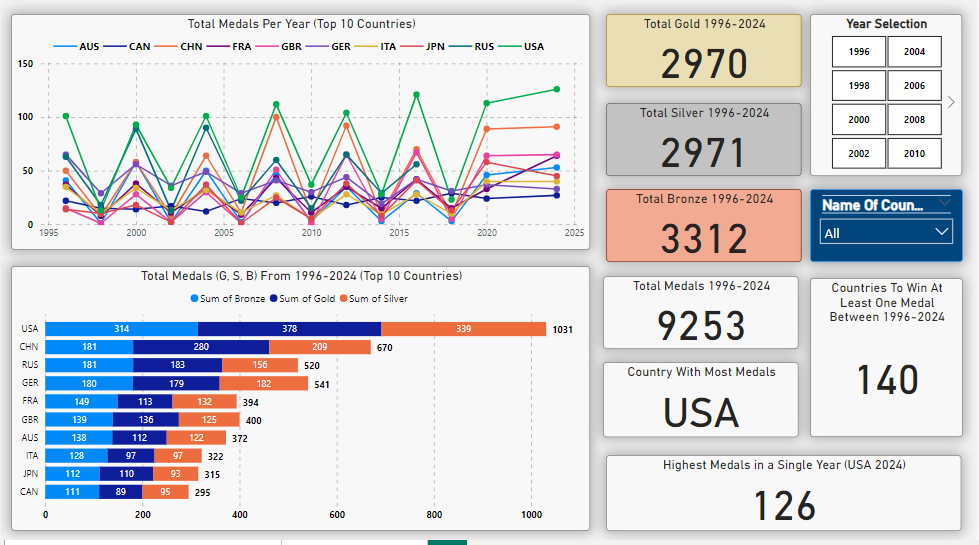

Layout of this report page (visuals, bound fields, positions):
{"tool":"powerbi","page":{"name":"Overall analysis of Olympic from 1996-2024","canvas":[1280,720],"ordinal":0},"visuals":[{"type":"barChart","title":"Total Medals (G, S, B) From 1996-2024 (Top 10 Countries)","fields":{"Category":["olympics.NOC"],"Y":["Sum(olympics.Bronze)","Sum(olympics.Gold)","Sum(olympics.Silver)"]},"box":[13.8,360.6,761.1,348.2],"z":0},{"type":"lineChart","title":"Total Medals Per Year (Top 10 Countries)","fields":{"Category":["olympics.Year"],"Y":["Sum(olympics.Total)"],"Series":["olympics.NOC"]},"box":[13.8,28.9,761.1,309.7],"z":1000},{"type":"card","title":"Total Medals 1996-2024","fields":{"Values":["Sum(olympics.Total)"]},"box":[791.4,373,257.4,96.3],"z":2000},{"type":"card","title":"Highest Medals in a Single Year (USA 2024)","fields":{"Values":["total medals per year by country.MaxTotalMedals"]},"box":[795.5,608.3,466.6,100.5],"z":3000},{"type":"card","title":"Country With Most Medals","fields":{"Values":["total medals per year by country.TopCountry"]},"box":[791.4,485.8,257.4,99.1],"z":4000},{"type":"card","title":"Total Gold 1996-2024","fields":{"Values":["Sum(olympics.Gold)"]},"box":[795.5,28.9,257.4,96.3],"z":5000},{"type":"card","title":"Total Silver 1996-2024","fields":{"Values":["Sum(olympics.Silver)"]},"box":[795.5,145.9,257.4,96.3],"z":6000},{"type":"card","title":"Total Bronze 1996-2024","fields":{"Values":["Sum(olympics.Bronze)"]},"box":[795.5,258.8,257.4,96.3],"z":7000},{"type":"slicer","fields":{"Values":["olympics.NOC"]},"box":[1062.5,258.8,200.9,96.3],"z":8000},{"type":"kpi","title":"Countries To Win At Least One Medal Between 1996-2024","fields":{"Indicator":["Count(olympics.NOC)"],"TrendLine":["olympics.Total Medals"]},"box":[1062.5,375.7,200.9,209.2],"z":9000},{"type":"slicer","title":"Year Selection","fields":{"Values":["olympics.Year"]},"box":[1062.5,28.9,199.6,213.3],"z":10000}]}

Visuals, with their boxes in screenshot pixels (x1, y1, x2, y2), scaled from the page's 1280x720 canvas onto the 979x545 screenshot:
"Total Medals (G, S, B) From 1996-2024 (Top 10 Countries)" barChart: [11,273,593,537]
"Total Medals Per Year (Top 10 Countries)" lineChart: [11,22,593,256]
"Total Medals 1996-2024" card: [605,282,802,355]
"Highest Medals in a Single Year (USA 2024)" card: [608,460,965,537]
"Country With Most Medals" card: [605,368,802,443]
"Total Gold 1996-2024" card: [608,22,805,95]
"Total Silver 1996-2024" card: [608,110,805,183]
"Total Bronze 1996-2024" card: [608,196,805,269]
slicer - olympics.NOC: [813,196,966,269]
"Countries To Win At Least One Medal Between 1996-2024" kpi: [813,284,966,443]
"Year Selection" slicer: [813,22,965,183]
